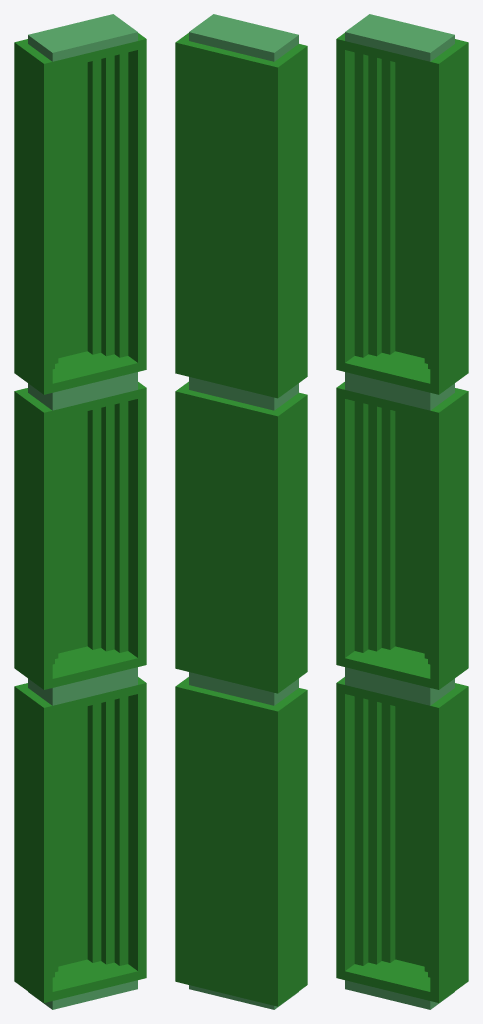
The model's file is bamboo_.obj.
The picture shows the model from 3 angles, left to right: view 1: azimuth 30°, elevation 25°; view 2: azimuth 150°, elevation 25°; view 3: azimuth 330°, elevation 25°; orthographic projection.
Bounding box in the file's own units: 1.2 × 10.7 × 0.6.
Materials: 1 (1 with a texture image).
